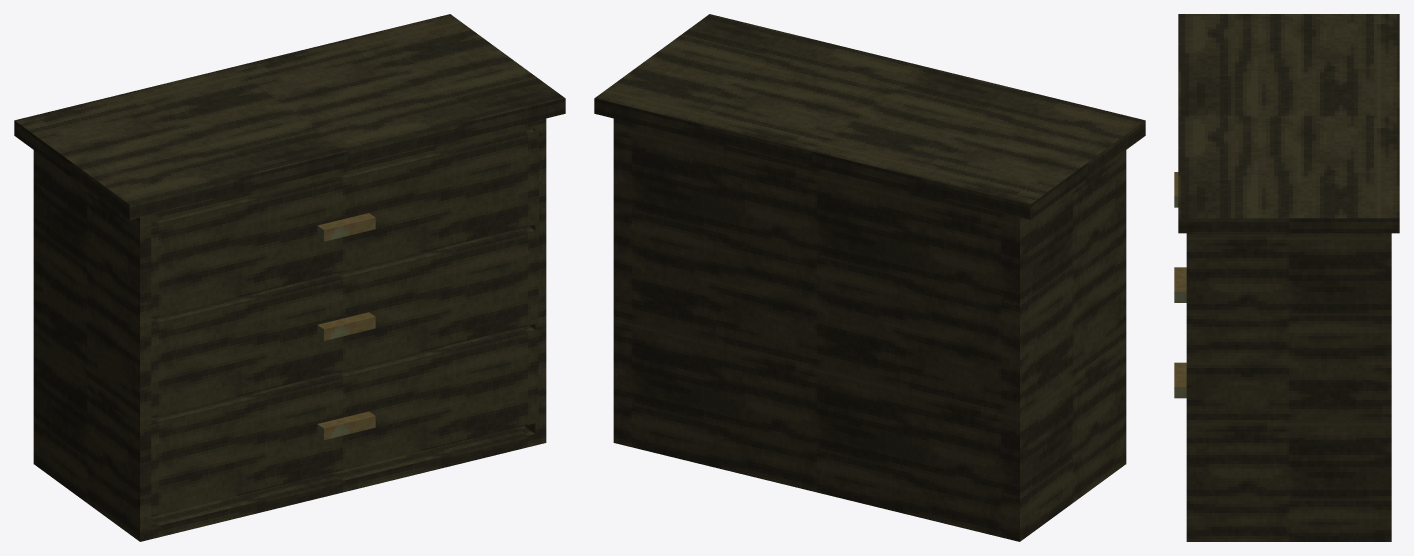
File: Dresser.fbx
The picture shows the model from 3 angles, left to right: view 1: azimuth 30°, elevation 25°; view 2: azimuth 150°, elevation 25°; view 3: azimuth 270°, elevation 25°; orthographic projection. The views are drawn at different scales.
Parts seen in each view (by area): view 1: Dresser_Top, Dresser_Body, Dresser_Drawer1_Front, Dresser_Drawer2_Front, Dresser_Drawer3_Front, Dresser_Drawer3_Handle, Dresser_Drawer2_Handle, Dresser_Drawer1_Handle; view 2: Dresser_Body, Dresser_Top; view 3: Dresser_Body, Dresser_Top, Dresser_Drawer1_Handle, Dresser_Drawer2_Handle.
Part boxes in pixels (x1,y1,x2,y2): Dresser_Top: [14, 14, 565, 219]; Dresser_Body: [33, 118, 546, 541]; Dresser_Drawer1_Front: [147, 325, 538, 516]; Dresser_Drawer2_Front: [148, 226, 538, 418]; Dresser_Drawer3_Front: [148, 129, 538, 318]; Dresser_Drawer3_Handle: [317, 213, 375, 241]; Dresser_Drawer2_Handle: [317, 312, 375, 340]; Dresser_Drawer1_Handle: [317, 411, 375, 439]; Dresser_Body: [613, 118, 1126, 541]; Dresser_Top: [594, 14, 1145, 219]; Dresser_Body: [1186, 233, 1391, 541]; Dresser_Top: [1178, 14, 1399, 233]; Dresser_Drawer1_Handle: [1174, 362, 1186, 398]; Dresser_Drawer2_Handle: [1174, 267, 1186, 302].
Size of the model in its own units: 1.18 by 0.89 by 0.55.
2 materials, 2 textured.
